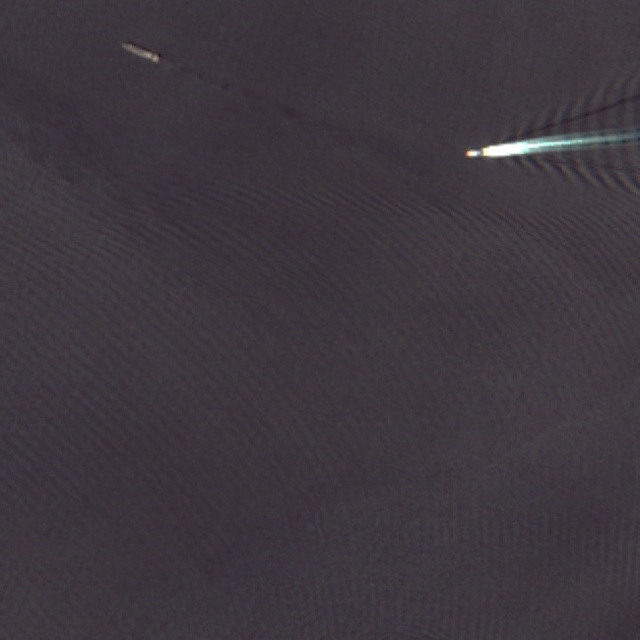wake: (462, 101, 625, 192)
